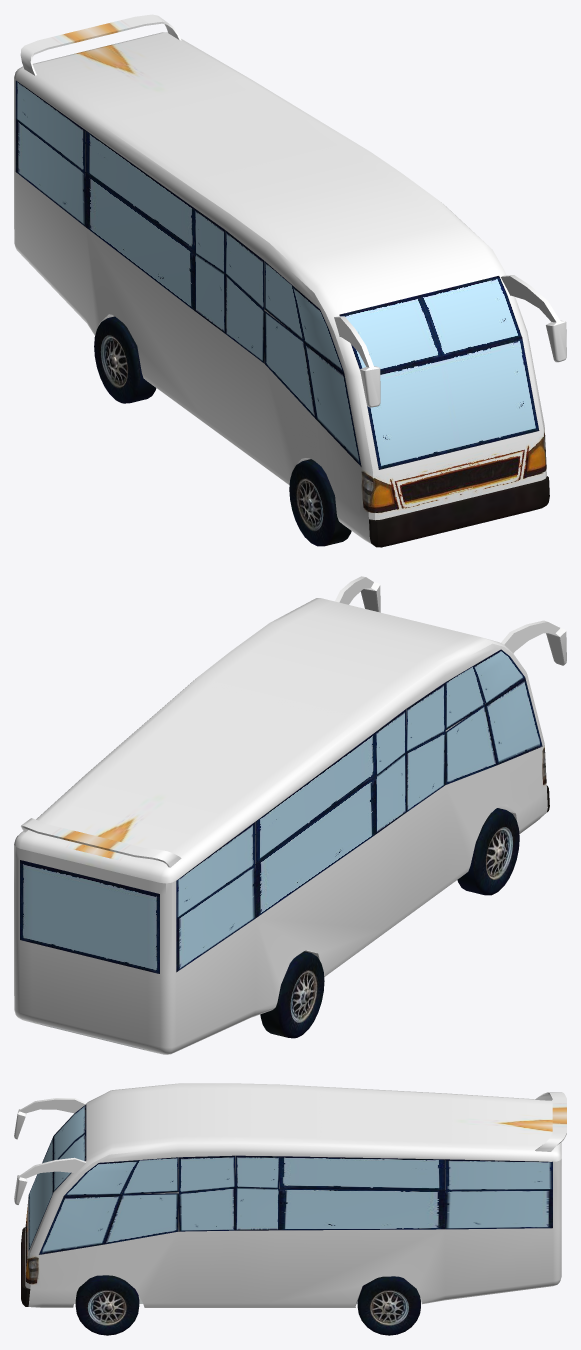
The model's file is bus1.glb.
3 renders of one model, top to bottom at view 1: azimuth 30°, elevation 25°; view 2: azimuth 150°, elevation 25°; view 3: azimuth 270°, elevation 25°, orthographic. The views are drawn at different scales.
Visible parts, largest first — view 1: body, tire_front.r, tire_rear.r, side_mirrors, rear_thingy; view 2: body, tire_rear.r, tire_front.r, side_mirrors, rear_thingy; view 3: body, tire_front.l, tire_rear.l, side_mirrors, rear_thingy.
Part boxes in pixels (left/top/right/bottom): body: left=14, top=32, right=549, bottom=547; tire_front.r: left=289, top=459, right=351, bottom=546; tire_rear.r: left=94, top=316, right=156, bottom=403; side_mirrors: left=334, top=275, right=566, bottom=407; rear_thingy: left=20, top=14, right=181, bottom=75; body: left=14, top=598, right=549, bottom=1054; tire_rear.r: left=260, top=951, right=324, bottom=1038; tire_front.r: left=457, top=808, right=519, bottom=895; side_mirrors: left=335, top=576, right=566, bottom=665; rear_thingy: left=21, top=818, right=181, bottom=867; body: left=21, top=1083, right=561, bottom=1307; tire_front.l: left=75, top=1275, right=139, bottom=1335; tire_rear.l: left=357, top=1276, right=420, bottom=1335; side_mirrors: left=14, top=1098, right=86, bottom=1204; rear_thingy: left=535, top=1092, right=566, bottom=1151.
Bounding box in the file's own units: 4.53 × 5.66 × 14.86.
2 materials, 1 textured.
